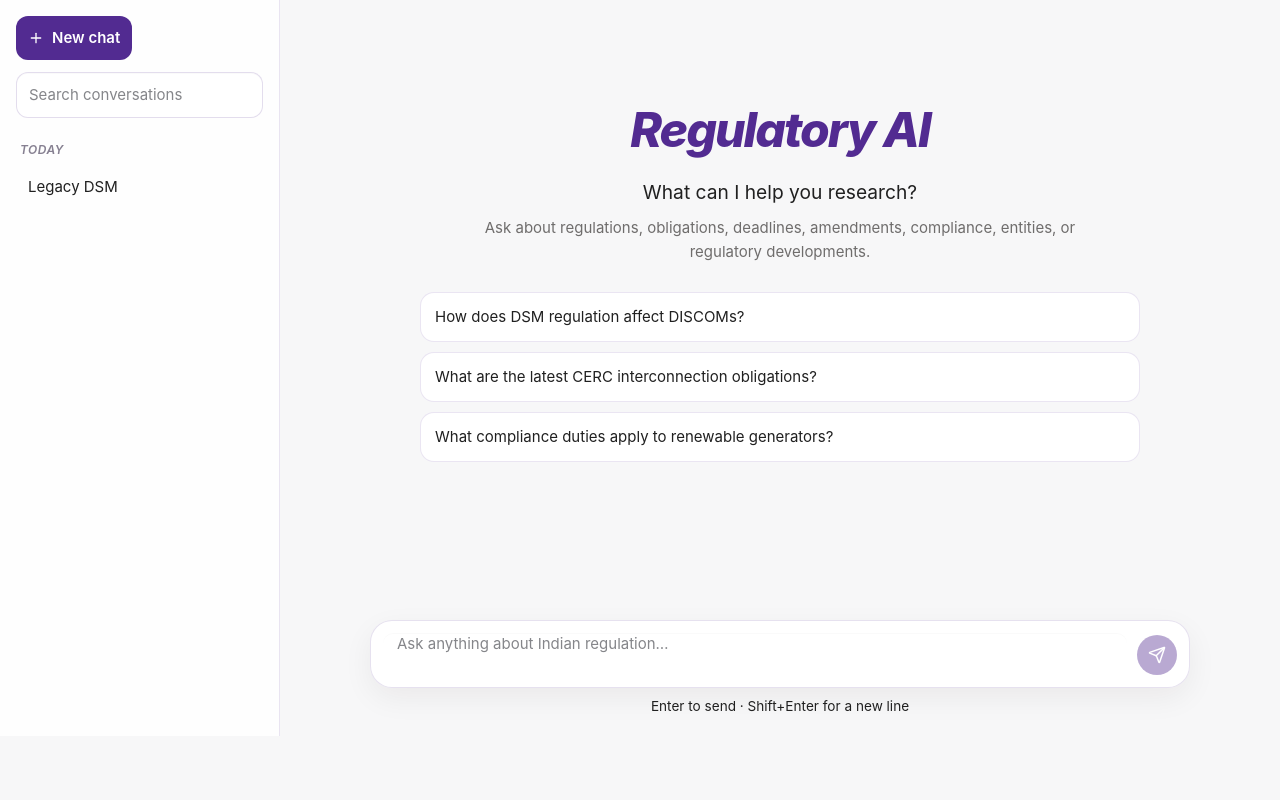
Scenario: AskConversationWorkspace › opens a history item even when restored citations are incomplete
Click the button "Legacy DSM" at [140, 187], box [16, 165, 263, 209]
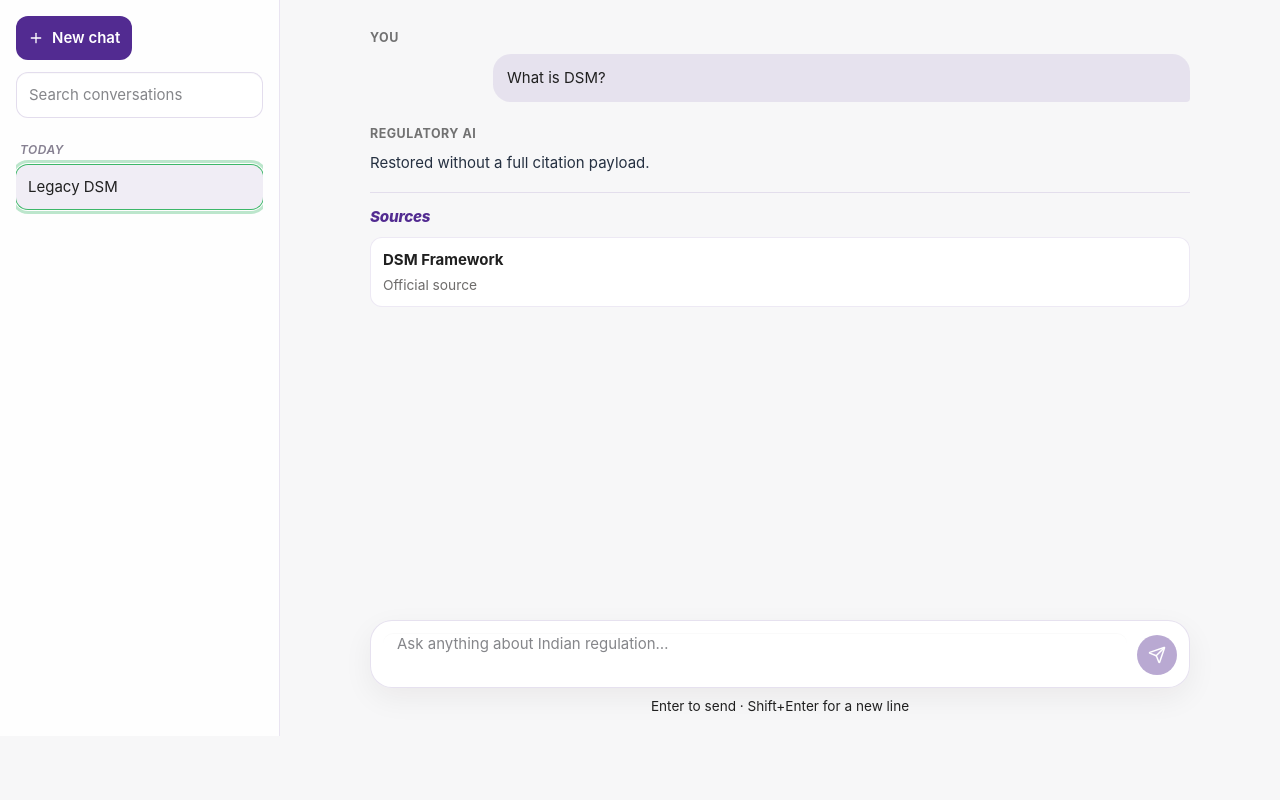
Expected: the text "Restored without a full citation payload." is shown, [370, 153, 650, 172]
Expected: the text "DSM Framework" is shown, [383, 250, 504, 269]
